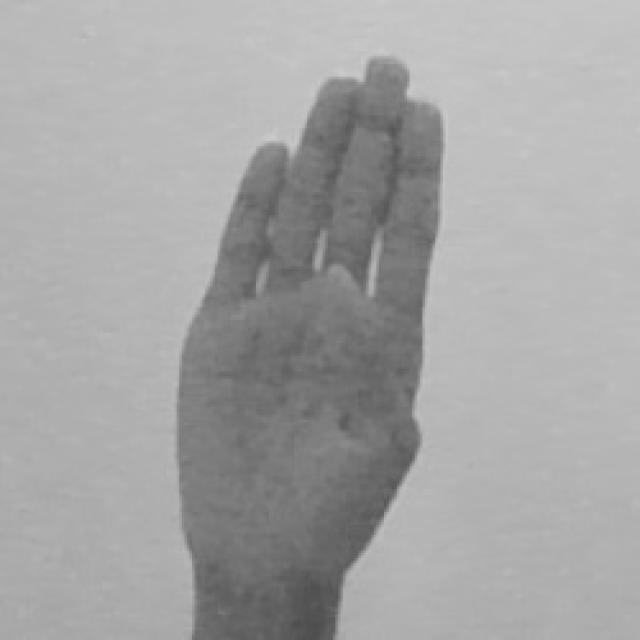B: (171, 51, 443, 640), (174, 51, 443, 640)
